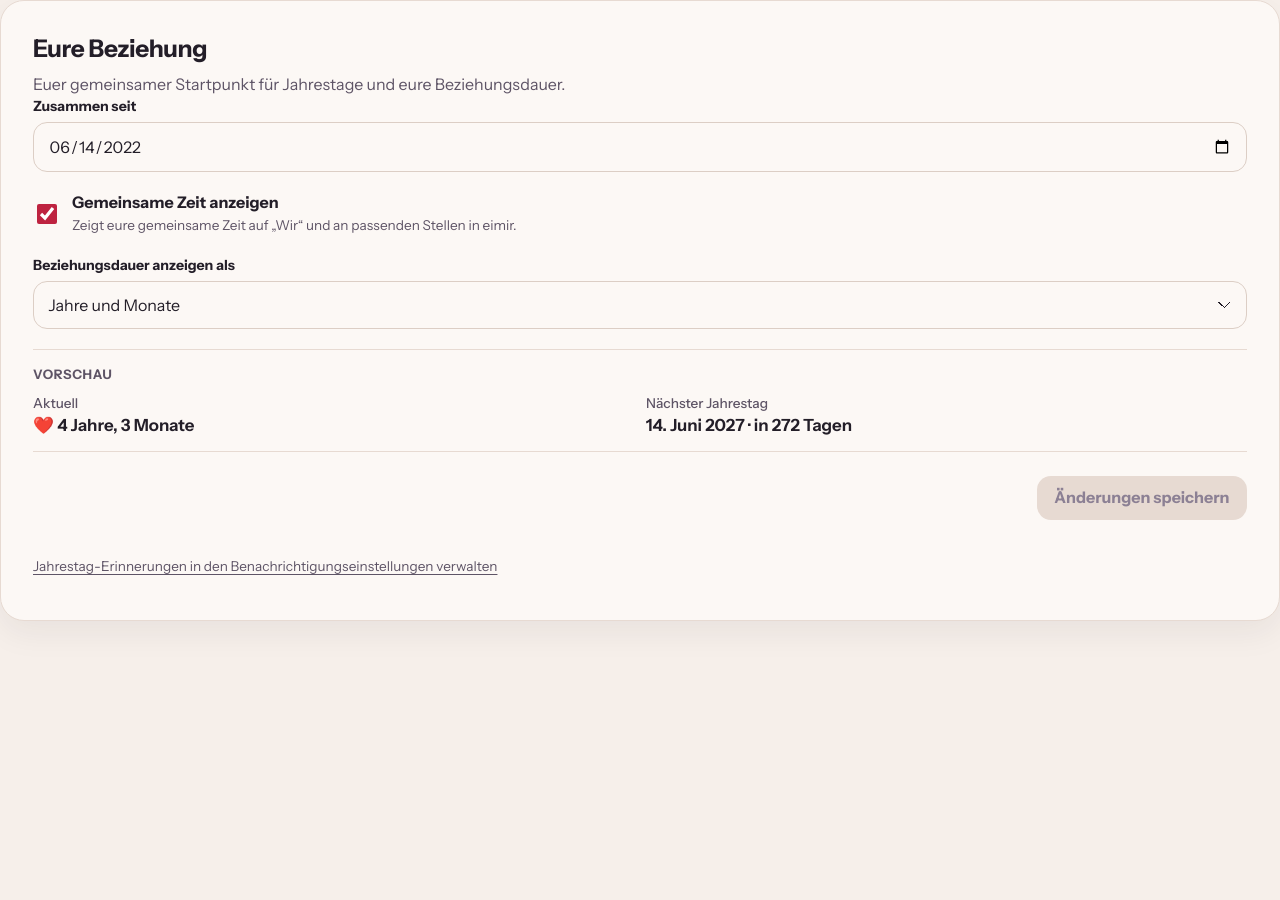
Scenario: RelationshipSettingsSection › disables save button when pristine and enables when dirty
The width and height of the screenshot is (1280, 900).
Expected: the date field labelled "Zusammen seit" is shown, [33,122,1247,172]
Expected: the button "Änderungen speichern" is disabled, [1037,476,1247,520]
Note: Toggle duration checkbox
Click the checkbox at (47, 214), box [37,204,57,224]
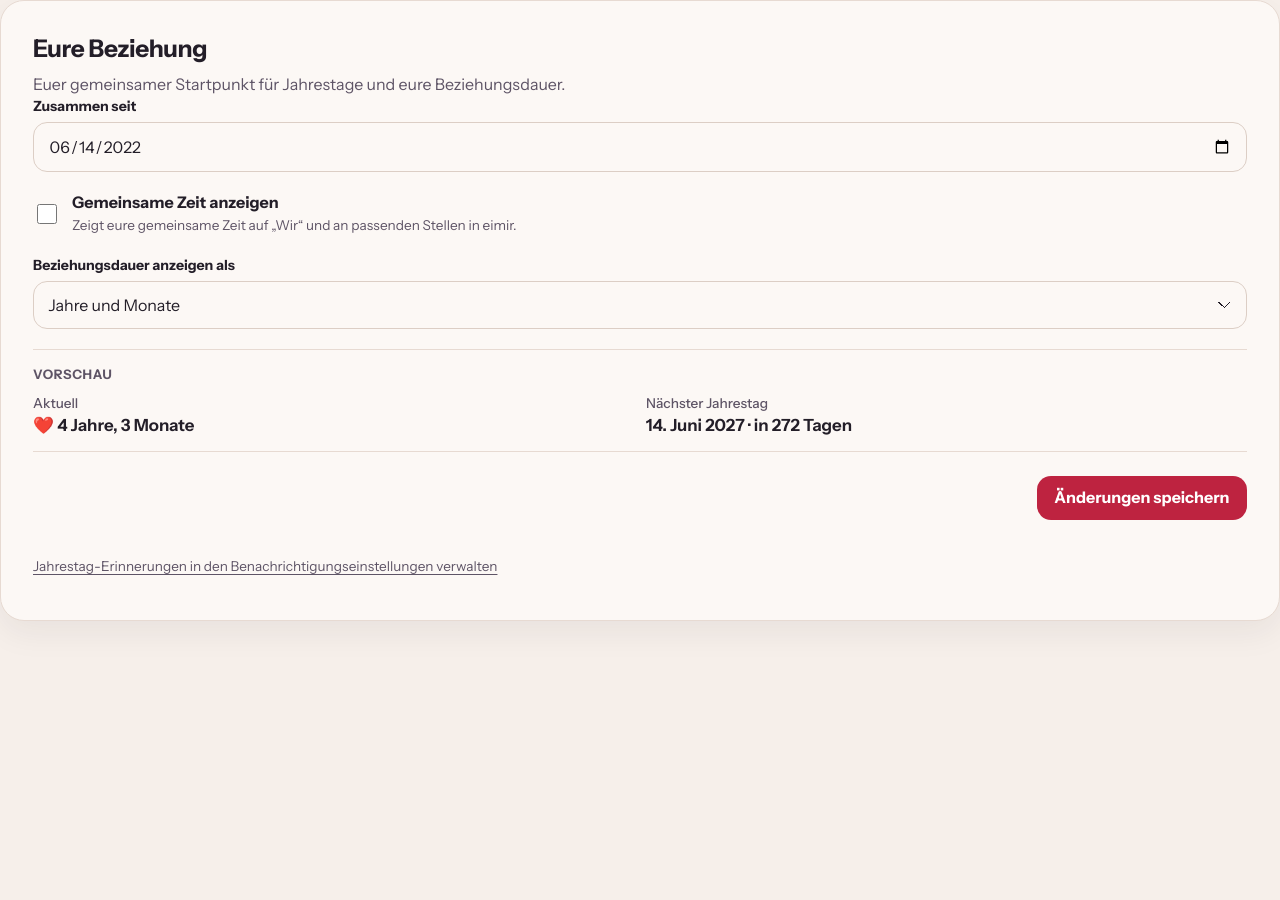
Now the button "Änderungen speichern" is enabled, box [1037,476,1247,520]
Note: Toggle back to original state
Click the checkbox at (47, 214), box [37,204,57,224]
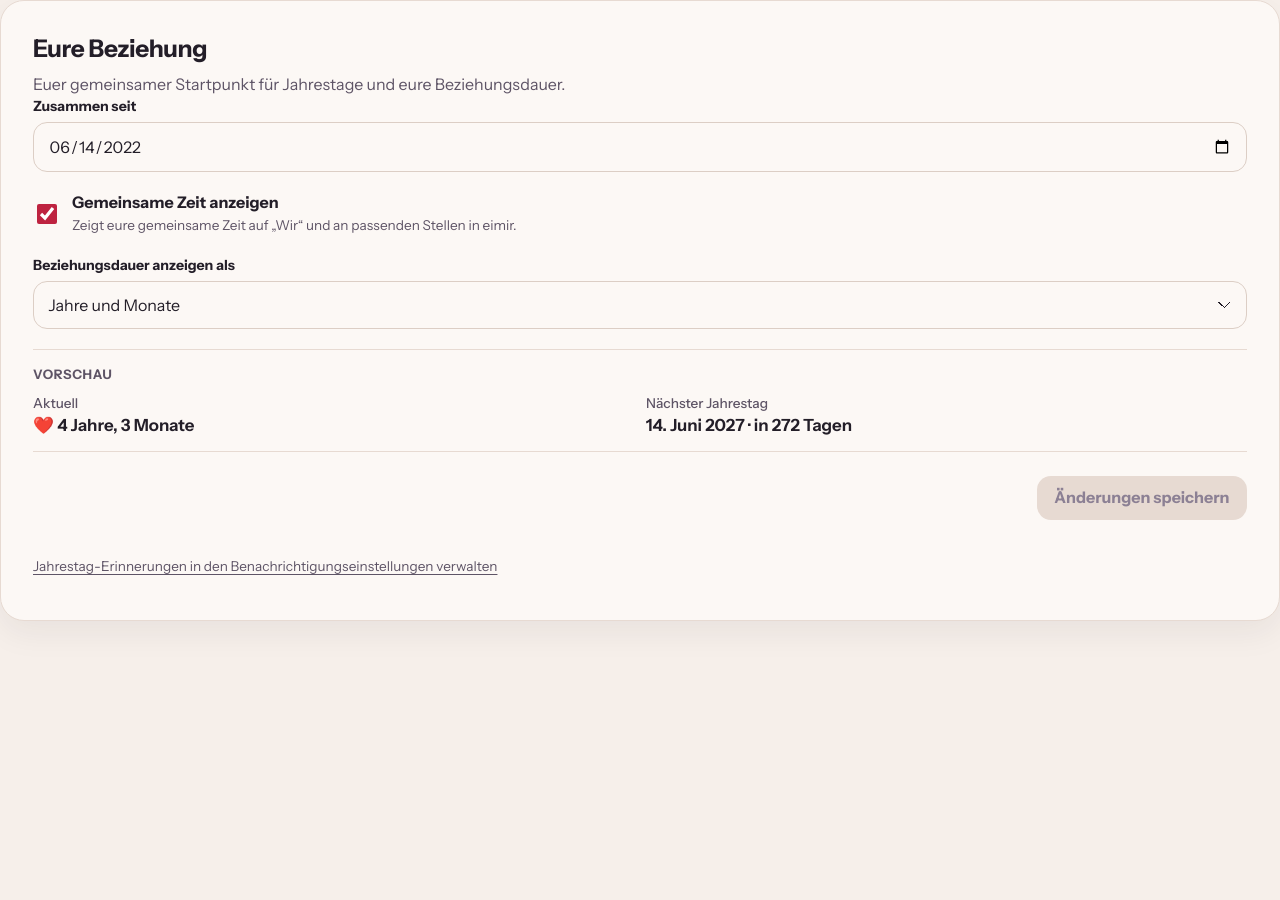
Now the button "Änderungen speichern" is disabled, box [1037,476,1247,520]
